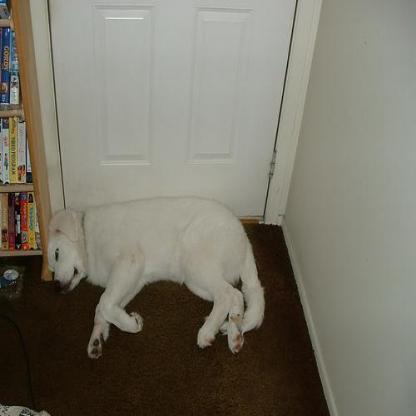Great_Pyrenees: (46, 194, 265, 360)
